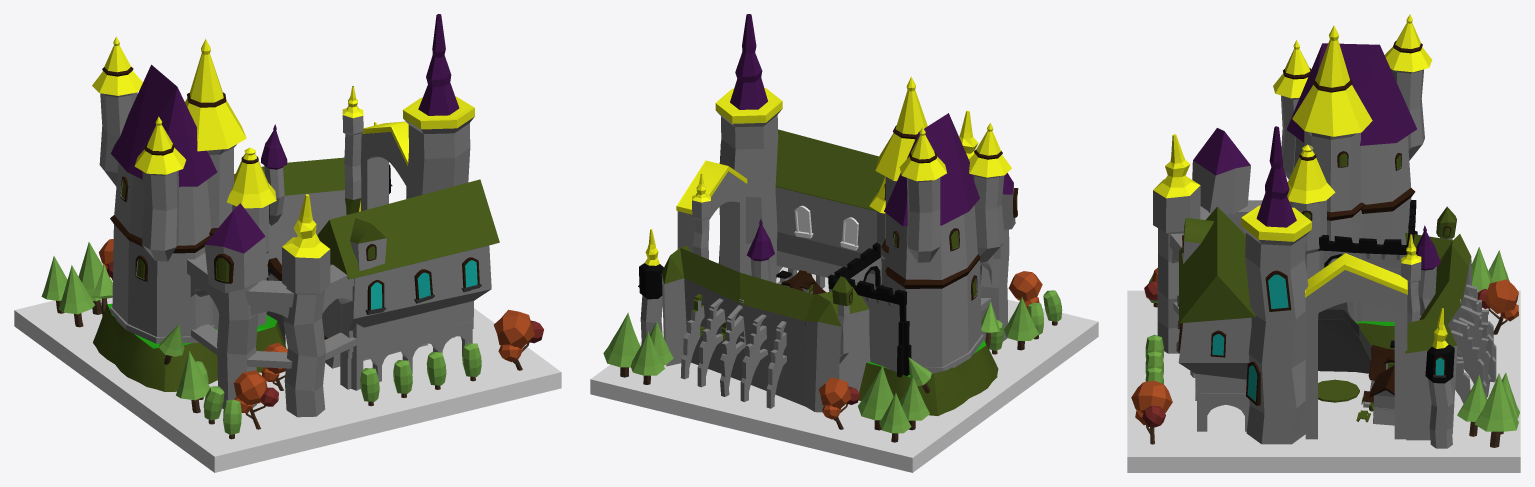
Rendered from Ciudad1.FBX.
The picture shows the model from 3 angles, left to right: view 1: azimuth 30°, elevation 25°; view 2: azimuth 150°, elevation 25°; view 3: azimuth 270°, elevation 25°; orthographic projection. The views are drawn at different scales.
Parts seen in each view (by area): view 1: castle, Box026, Box004, Pointy Tower EX002, Cylinder001, Cylinder004, Box012, Box003, Box001, Puente3, Puente2, Pointy Tower EX001 (+18 smaller); view 2: castle, Box026, Box004, Box003, Cylinder001, Ciudad1, Box013, Box001, Box012, Cylinder004, Cylinder003, group267_pCylinder347.039 (+10 smaller); view 3: castle, Box026, Cylinder001, Box004, Box001, Box003, Pointy Tower EX002, Ciudad1, Cylinder004, Cylinder003, group267_pCylinder347.039, pCylinder356.050 (+13 smaller).
Part boxes in pixels (x1=…): castle: x1=92, y1=36, x2=285, y2=344; Box026: x1=14, y1=297, x2=561, y2=472; Box004: x1=317, y1=179, x2=499, y2=352; Pointy Tower EX002: x1=282, y1=194, x2=330, y2=417; Cylinder001: x1=402, y1=14, x2=474, y2=337; Cylinder004: x1=204, y1=203, x2=268, y2=409; Box012: x1=93, y1=303, x2=286, y2=391; Box003: x1=234, y1=157, x2=360, y2=264; Box001: x1=361, y1=121, x2=408, y2=211; Puente3: x1=322, y1=264, x2=363, y2=390; Puente2: x1=245, y1=280, x2=293, y2=368; Pointy Tower EX001: x1=342, y1=86, x2=363, y2=214; castle: x1=828, y1=76, x2=1011, y2=377; Box026: x1=590, y1=267, x2=1098, y2=472; Box004: x1=775, y1=129, x2=885, y2=286; Box003: x1=661, y1=246, x2=812, y2=406; Cylinder001: x1=715, y1=14, x2=782, y2=282; Ciudad1: x1=680, y1=219, x2=786, y2=408; Box013: x1=805, y1=287, x2=870, y2=412; Box001: x1=676, y1=160, x2=747, y2=274; Box012: x1=858, y1=339, x2=998, y2=415; Cylinder004: x1=980, y1=173, x2=1015, y2=341; Cylinder003: x1=639, y1=229, x2=663, y2=343; group267_pCylinder347.039: x1=603, y1=312, x2=640, y2=377; castle: x1=1273, y1=14, x2=1432, y2=373; Box026: x1=1127, y1=290, x2=1520, y2=472; Cylinder001: x1=1241, y1=126, x2=1311, y2=444; Box004: x1=1178, y1=206, x2=1255, y2=395; Box001: x1=1305, y1=253, x2=1407, y2=439; Box003: x1=1405, y1=245, x2=1468, y2=440; Pointy Tower EX002: x1=1153, y1=134, x2=1200, y2=353; Ciudad1: x1=1416, y1=225, x2=1496, y2=403; Cylinder004: x1=1192, y1=128, x2=1250, y2=217; Cylinder003: x1=1425, y1=308, x2=1454, y2=448; group267_pCylinder347.039: x1=1474, y1=373, x2=1518, y2=447; pCylinder356.050: x1=1131, y1=380, x2=1172, y2=444.
Size of the model in its own units: 487 by 468 by 487.
